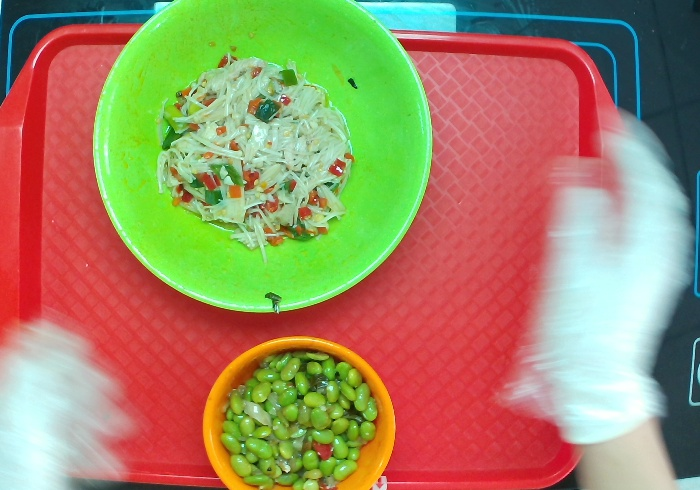YKMZ-Ju_Se_Yuan_Wan: (202, 335, 396, 490)
YKMZ-Lv_Se_Tang_Wan: (88, 1, 431, 319)
